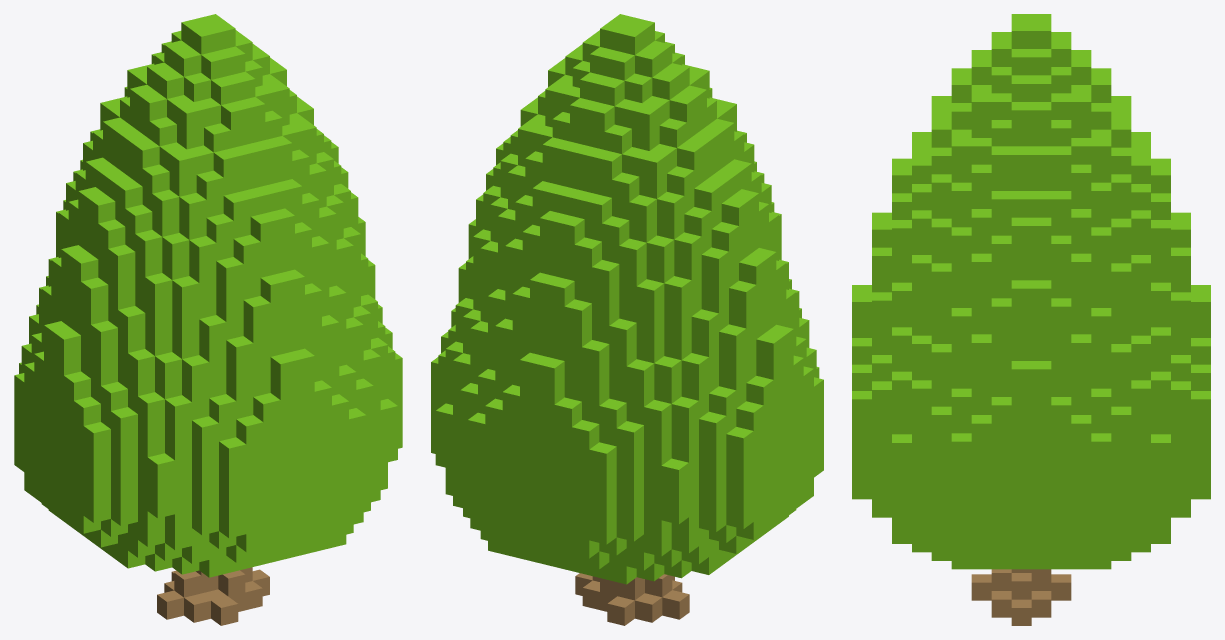
File: Tree_4.obj
3 views of the same model, side by side, from view 1: azimuth 30°, elevation 25°; view 2: azimuth 150°, elevation 25°; view 3: azimuth 270°, elevation 25° (orthographic).
Bounding box in the file's own units: 1.8 × 3.2 × 1.8.
1 material, 1 textured.
